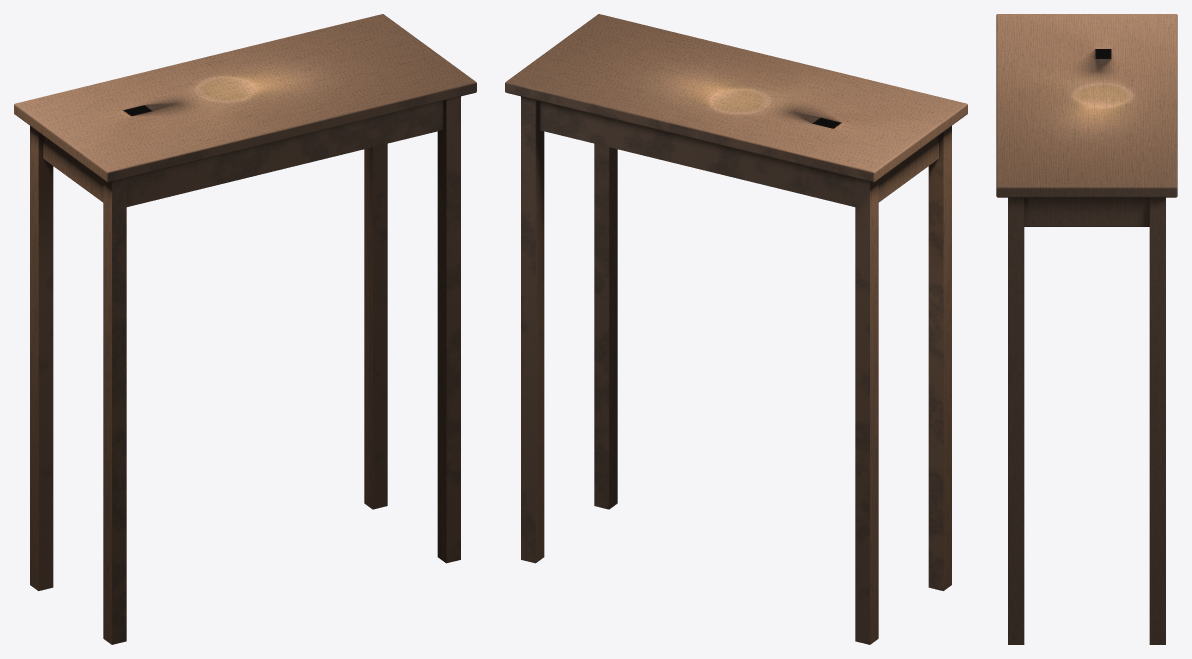
The model's file is 817_hook.glb.
3 views of the same model, side by side, from view 1: azimuth 30°, elevation 25°; view 2: azimuth 150°, elevation 25°; view 3: azimuth 270°, elevation 25° (orthographic). The views are drawn at different scales.
Parts seen in each view (by area): view 1: Table; view 2: Table; view 3: Table.
Part boxes in pixels (x1=…): Table: x1=14, y1=14, x2=476, y2=644; Table: x1=505, y1=14, x2=967, y2=644; Table: x1=996, y1=14, x2=1177, y2=644.
Size of what is drawn, in the model's own units: 2.5 by 3.1 by 1.1.
1 material, 1 textured.
